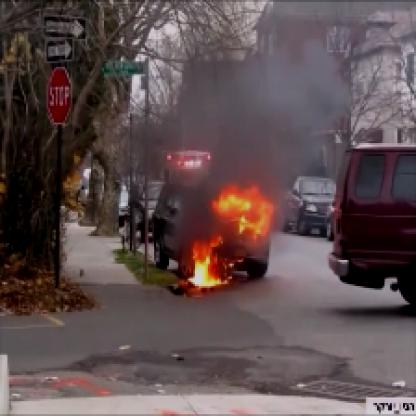Fire: (163, 167, 275, 292)
